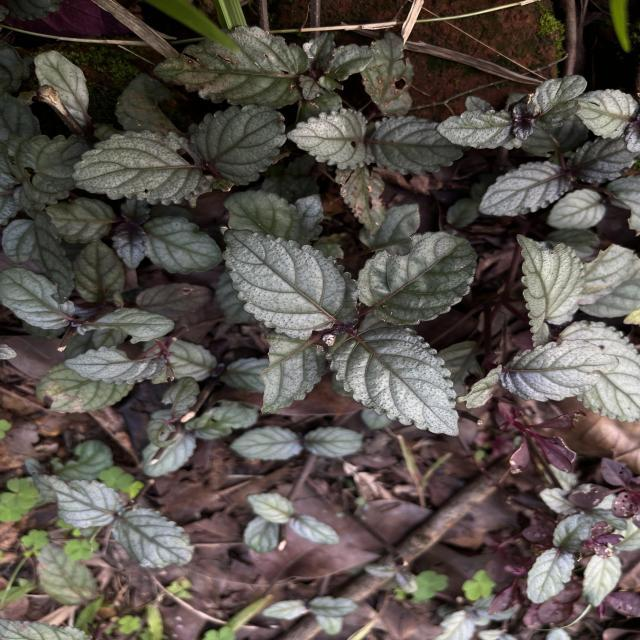Hemigraphis colorata: (220, 226, 365, 344), (324, 324, 462, 440), (354, 229, 480, 327), (70, 128, 208, 210), (513, 232, 588, 350), (187, 102, 289, 188), (498, 338, 621, 405), (284, 106, 376, 172), (476, 159, 574, 219), (0, 264, 80, 332), (61, 343, 169, 388), (434, 108, 514, 152)
